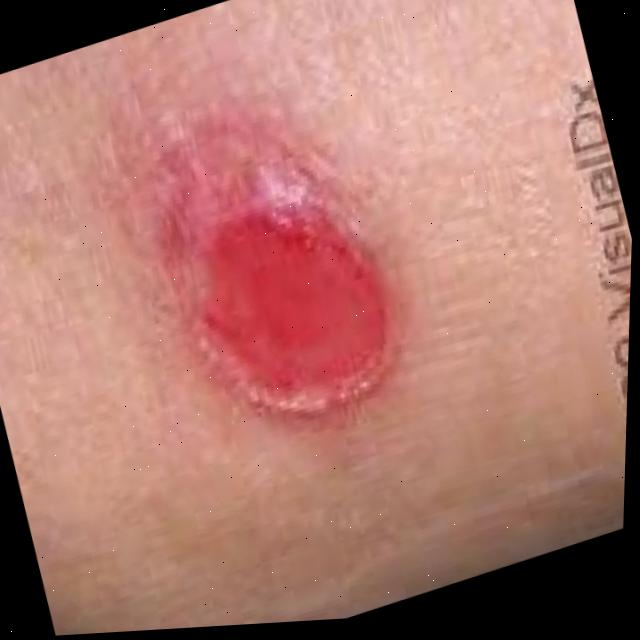Eczema: (176, 117, 429, 456)
